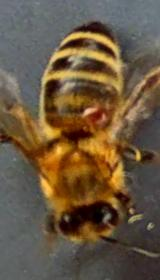varroa_mite: (81, 100, 113, 128)
